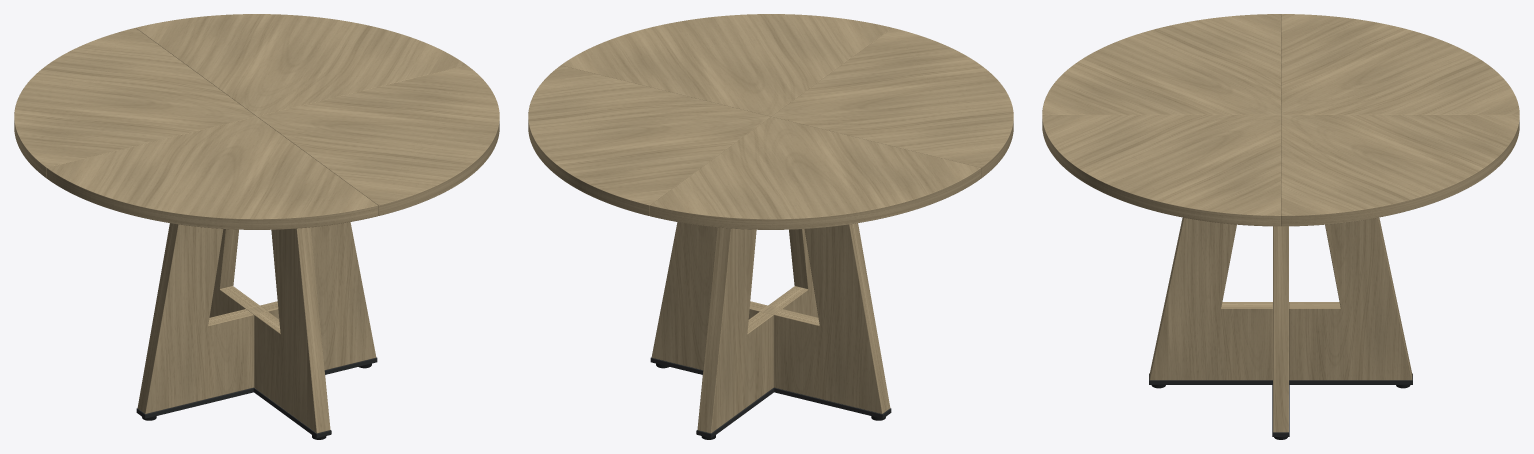
Rendered from little-tree-oak-table.glb.
The picture shows the model from 3 angles, left to right: view 1: azimuth 30°, elevation 25°; view 2: azimuth 150°, elevation 25°; view 3: azimuth 270°, elevation 25°; orthographic projection.
Parts seen in each view (by area): view 1: Tabletop quarter 3, Tabletop quarter 4, Tabletop quarter 2, Tabletop quarter 1, Pedestal wing 3, Pedestal wing 4, Pedestal wing 1, Pedestal wing 2, Black bottom rail 1; view 2: Tabletop quarter 2, Tabletop quarter 1, Tabletop quarter 3, Tabletop quarter 4, Pedestal wing 3, Pedestal wing 2, Pedestal wing 1, Pedestal wing 4, Black bottom rail 1; view 3: Tabletop quarter 1, Tabletop quarter 4, Tabletop quarter 2, Tabletop quarter 3, Pedestal wing 2, Pedestal wing 4, Pedestal wing 1, Black bottom rail 2.
Boxes of the visible parts, box(x1,y1,x2,y2) form: Tabletop quarter 3: box(47, 116, 378, 229); Tabletop quarter 4: box(257, 65, 499, 215); Tabletop quarter 2: box(14, 28, 256, 178); Tabletop quarter 1: box(136, 14, 466, 116); Pedestal wing 3: box(137, 223, 253, 413); Pedestal wing 4: box(254, 227, 330, 433); Pedestal wing 1: box(260, 222, 376, 370); Pedestal wing 2: box(209, 229, 259, 317); Black bottom rail 1: box(136, 357, 377, 418); Tabletop quarter 2: box(649, 116, 980, 229); Tabletop quarter 1: box(528, 65, 770, 215); Tabletop quarter 3: box(771, 28, 1013, 178); Tabletop quarter 4: box(561, 14, 891, 116); Pedestal wing 3: box(774, 223, 890, 413); Pedestal wing 2: box(697, 227, 773, 433); Pedestal wing 1: box(651, 222, 767, 370); Pedestal wing 4: box(768, 229, 818, 317); Black bottom rail 1: box(650, 357, 891, 418); Tabletop quarter 1: box(1281, 115, 1519, 226); Tabletop quarter 4: box(1042, 115, 1280, 226); Tabletop quarter 2: box(1281, 14, 1519, 114); Tabletop quarter 3: box(1042, 14, 1280, 114); Pedestal wing 2: box(1289, 217, 1412, 380); Pedestal wing 4: box(1149, 217, 1272, 380); Pedestal wing 1: box(1273, 226, 1288, 432); Black bottom rail 2: box(1149, 373, 1412, 384).
Size of the model in its own units: 1.2 by 0.7501 by 1.2.
4 materials, 1 textured.
